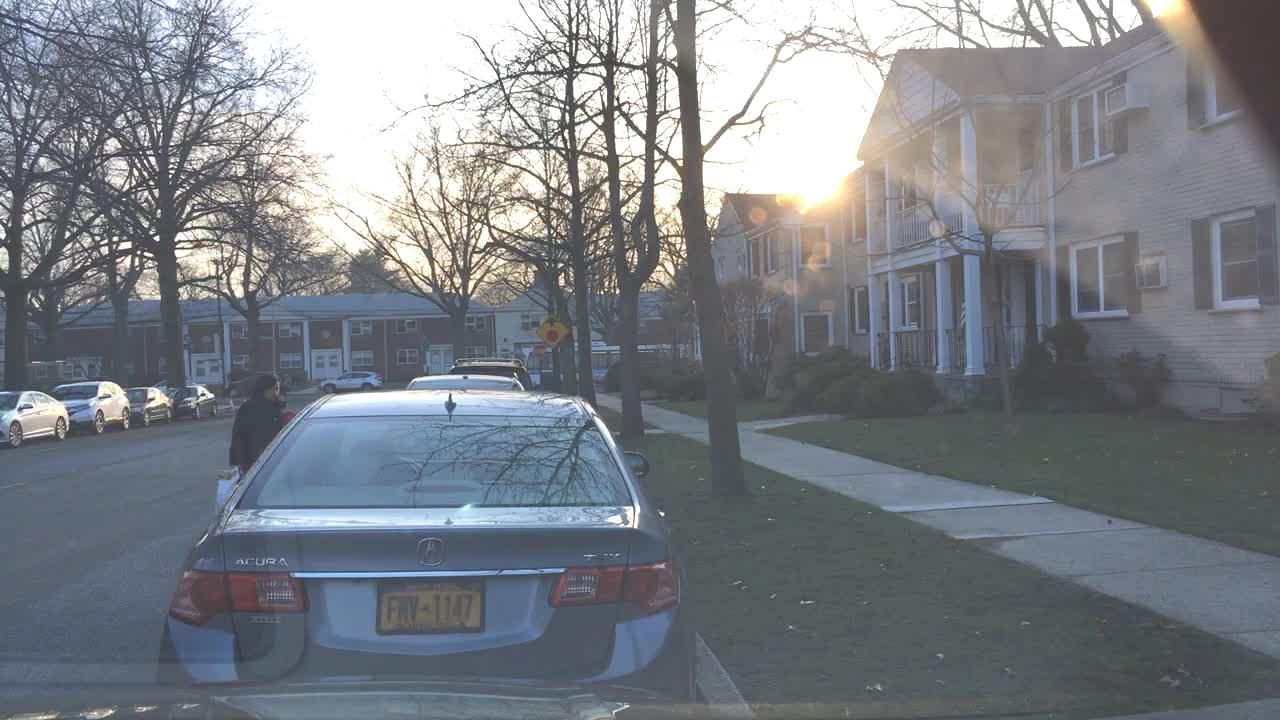acura: (408, 526, 452, 578)
